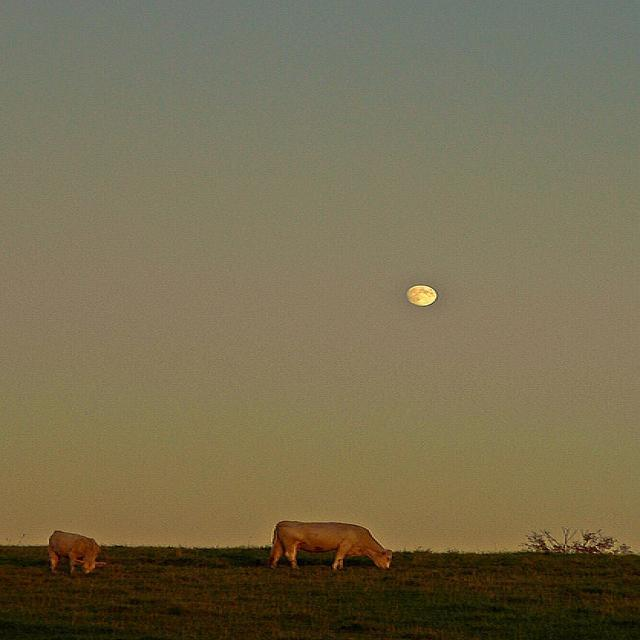cow: (268, 518, 396, 571), (45, 528, 104, 572)
